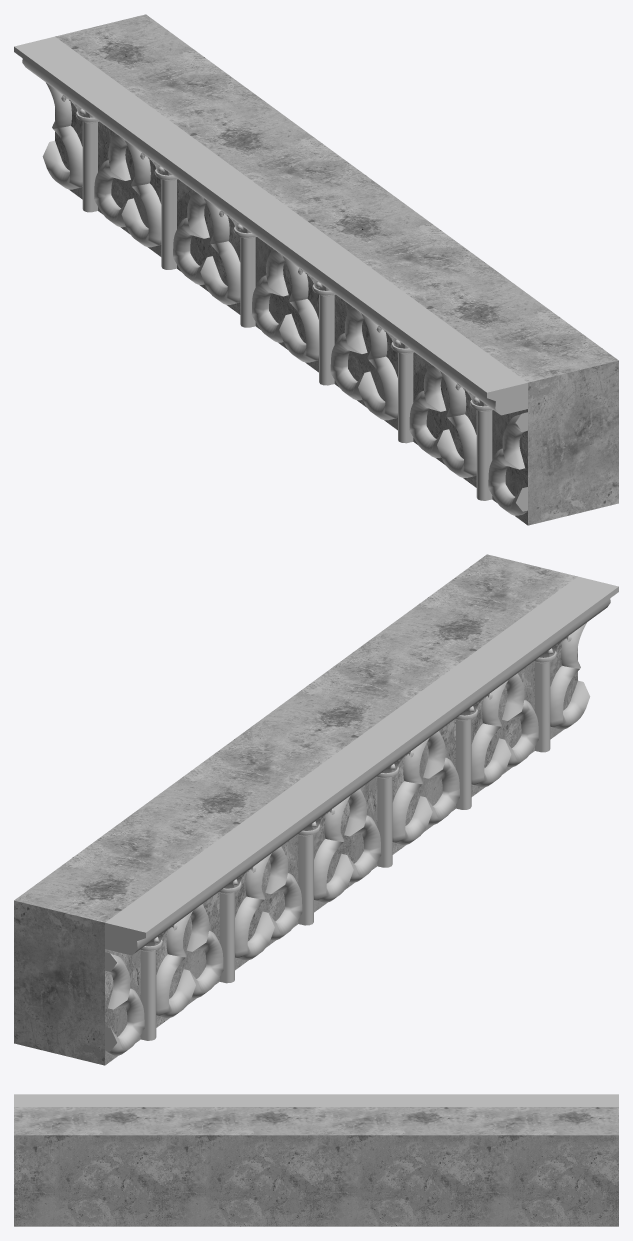
Rendered from SM_TowerWall_04a.fbx.
The picture shows the model from 3 angles, top to bottom: view 1: azimuth 30°, elevation 25°; view 2: azimuth 150°, elevation 25°; view 3: azimuth 270°, elevation 25°; orthographic projection. The views are drawn at different scales.
Parts seen in each view (by area): view 1: SM_TowerWall_04a_LOD0; view 2: SM_TowerWall_04a_LOD0; view 3: SM_TowerWall_04a_LOD0.
Part boxes in pixels (x1,y1,x2,y2): SM_TowerWall_04a_LOD0: (14,14,618,525); SM_TowerWall_04a_LOD0: (14,554,618,1065); SM_TowerWall_04a_LOD0: (14,1094,618,1226).
Bounding box in the file's own units: 290 × 1800 × 300.
